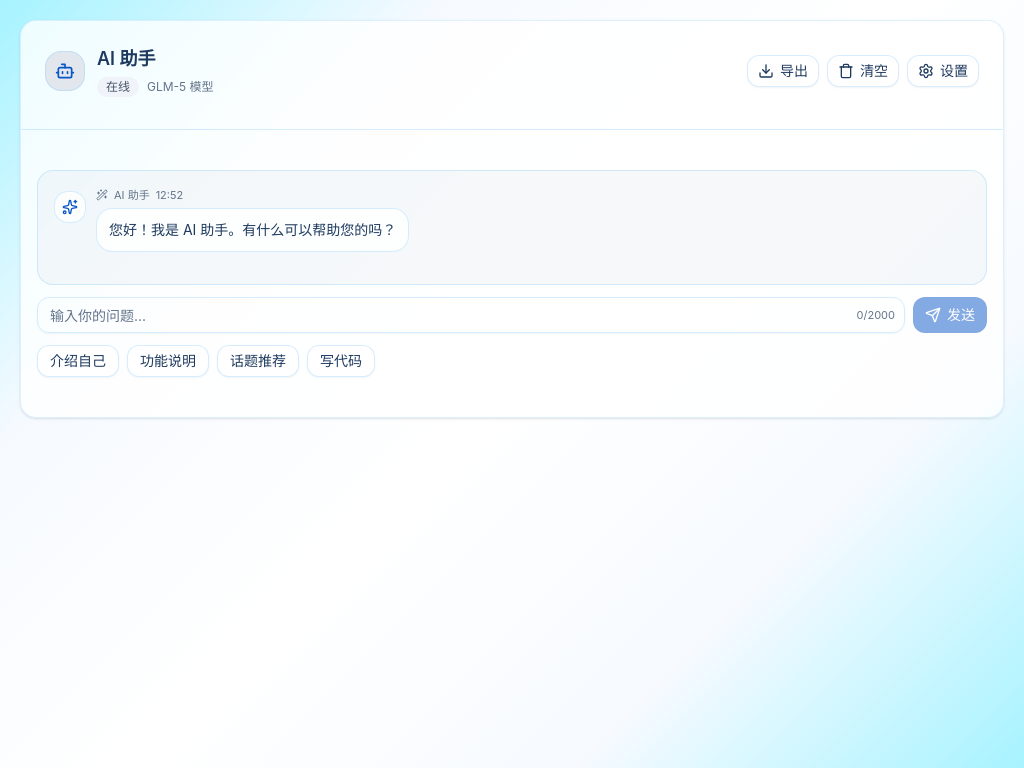
Test case: AiChatPage 默认后端 › 发到 /api/ai/chat，显示信封 data 里的 reply
This screenshot has width=1024, height=768.
Type "你好" into the field with placeholder "输入你的问题..." at [471, 315], box [37, 297, 905, 333]
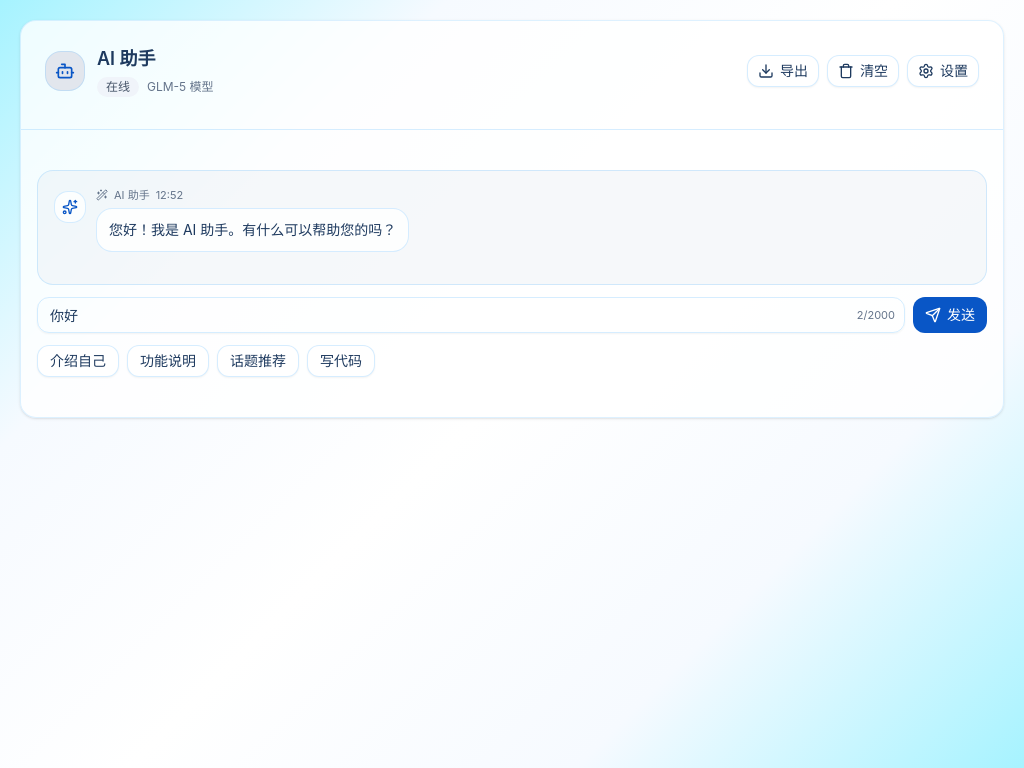
Submit the form with placeholder "输入你的问题", box [37, 297, 987, 377]
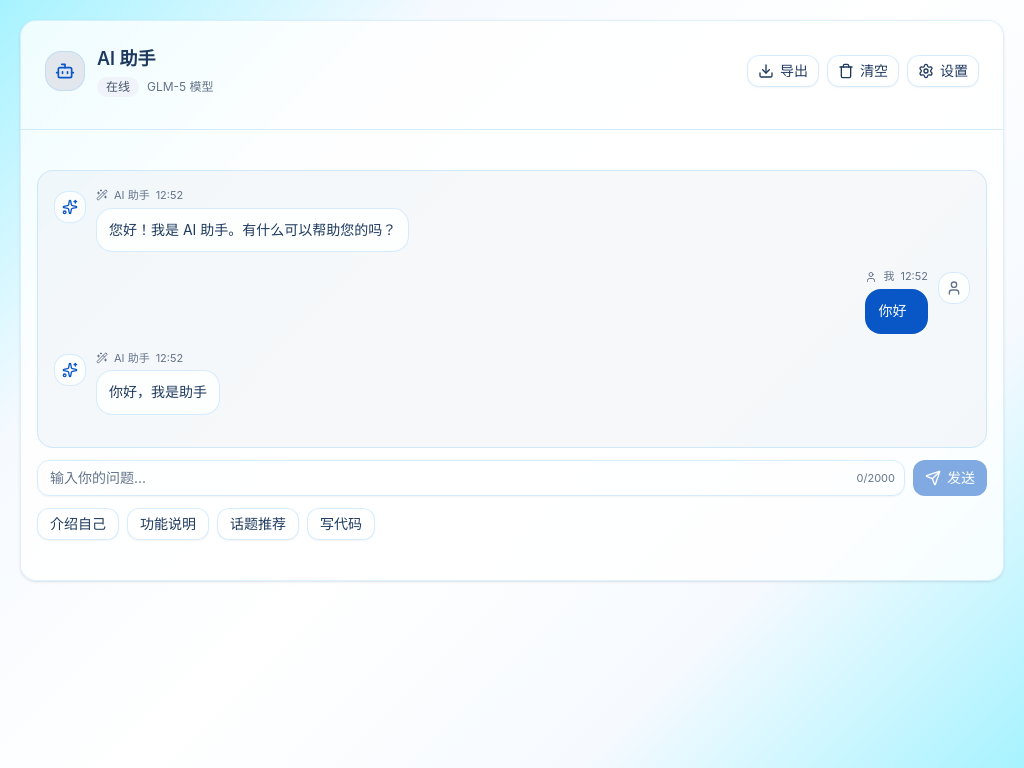
expect the text "你好，我是助手" is shown: met, box [96, 370, 220, 415]
